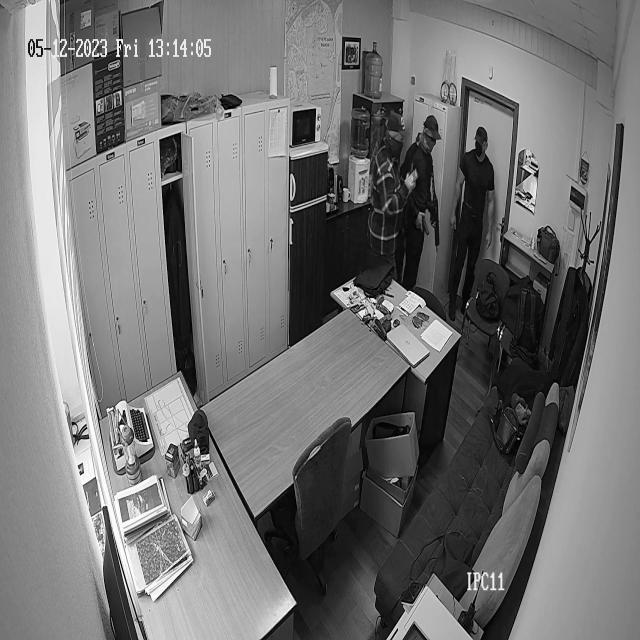gun: (430, 170, 440, 253), (422, 214, 430, 236)
person: (450, 126, 492, 306), (370, 113, 402, 269)
person with a gun: (406, 116, 434, 282)
